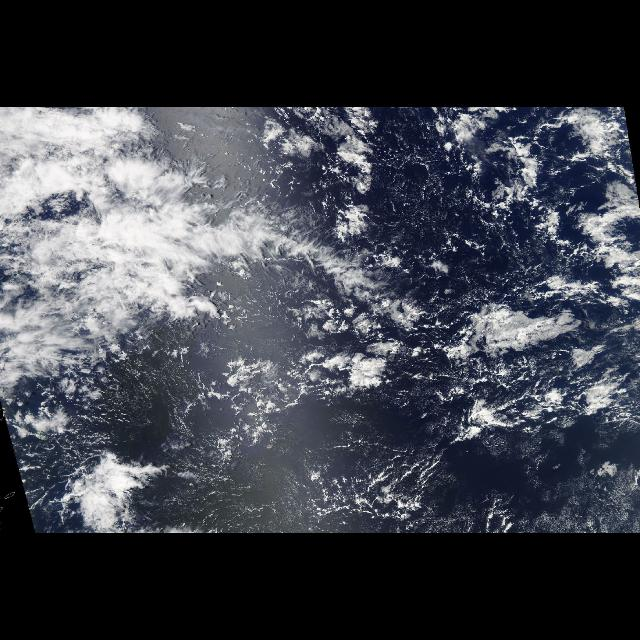Fish: (12, 200, 640, 462)
Gravel: (128, 110, 638, 498)
Sugar: (198, 257, 362, 533)
